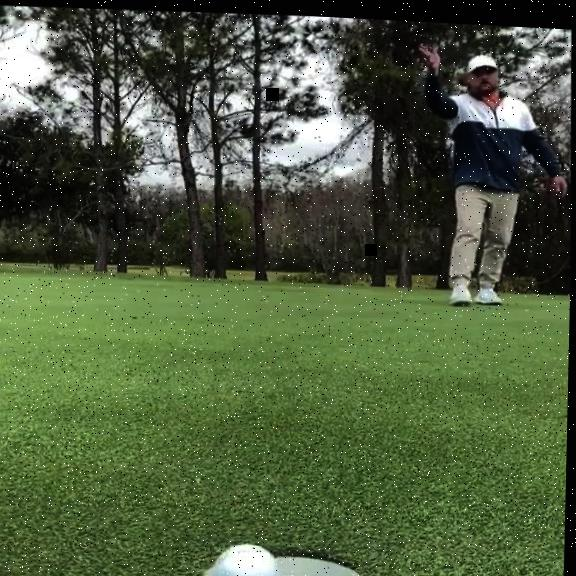GolfBall: (218, 536, 280, 576)
